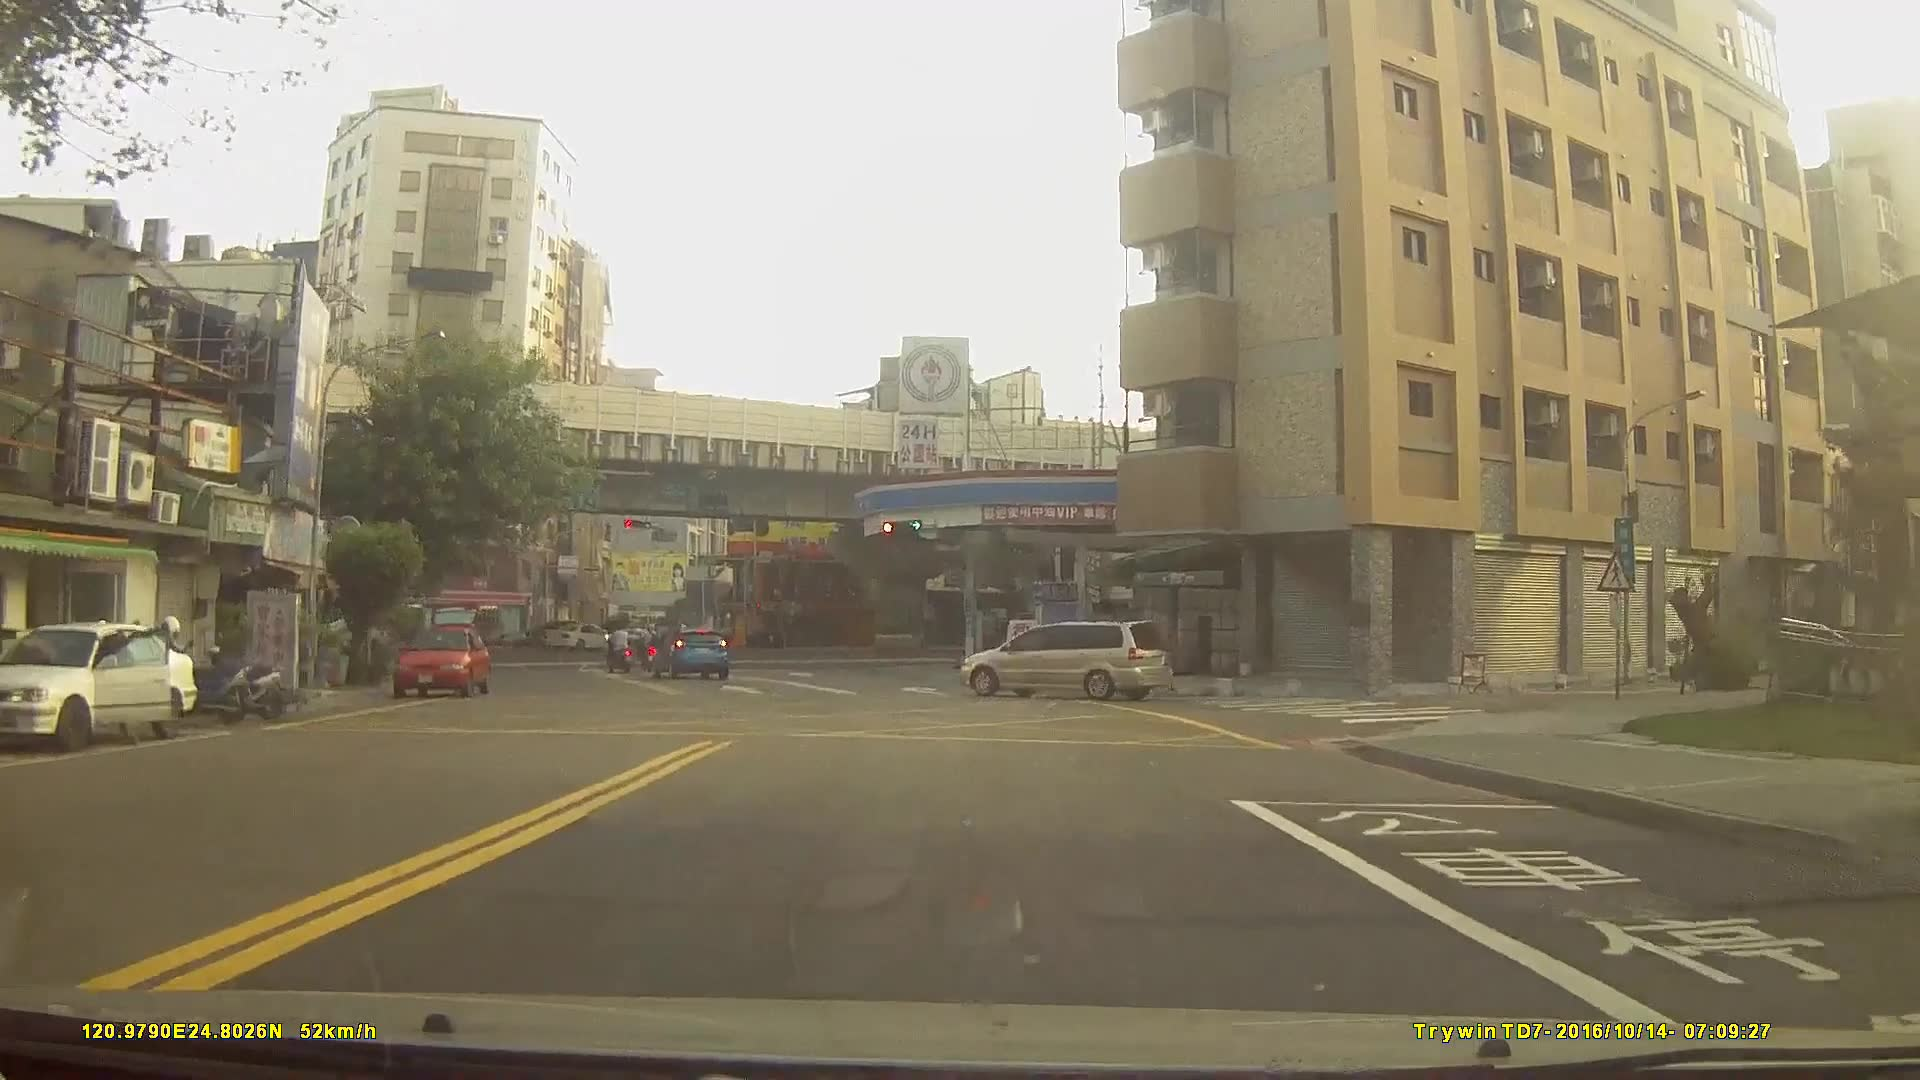rider: (603, 619, 633, 671)
vehicle: (0, 619, 197, 749), (956, 618, 1169, 699), (390, 624, 492, 697), (647, 626, 729, 678), (505, 613, 579, 645), (542, 621, 615, 649)
